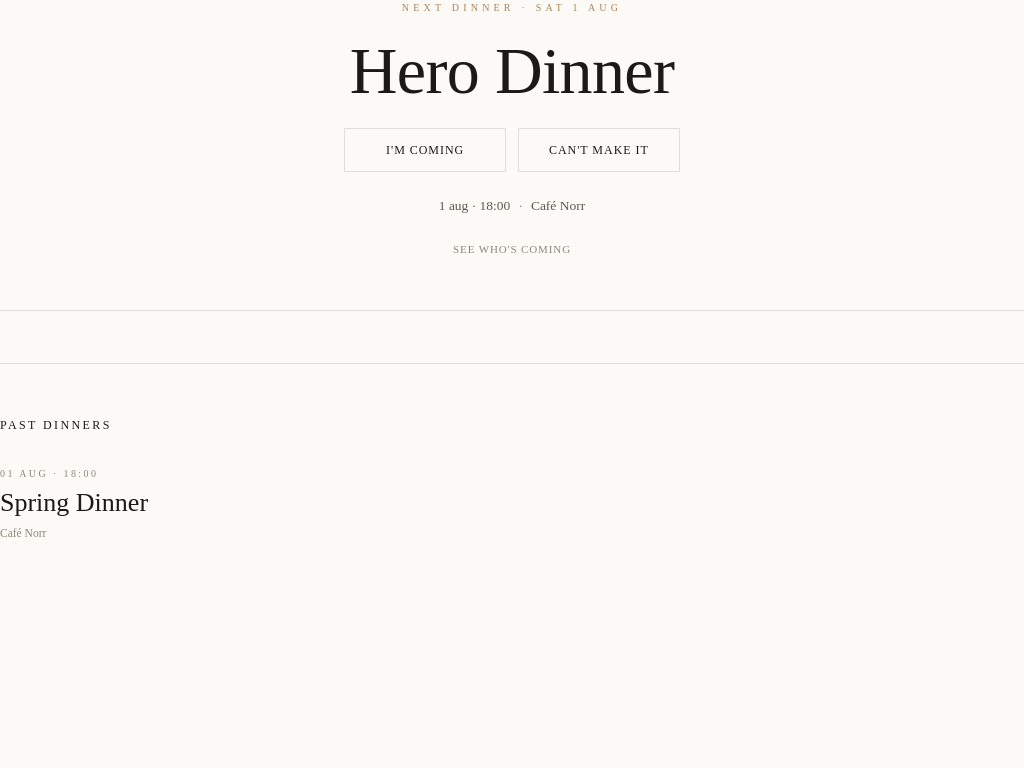
it: DinnersGallery Component › prefills stars and disables the update button until a score actually changes
The width and height of the screenshot is (1024, 768).
Click the button "01 AUG · 18:00 Spring Dinner Café Norr" at (49, 474), box [0,466,317,542]
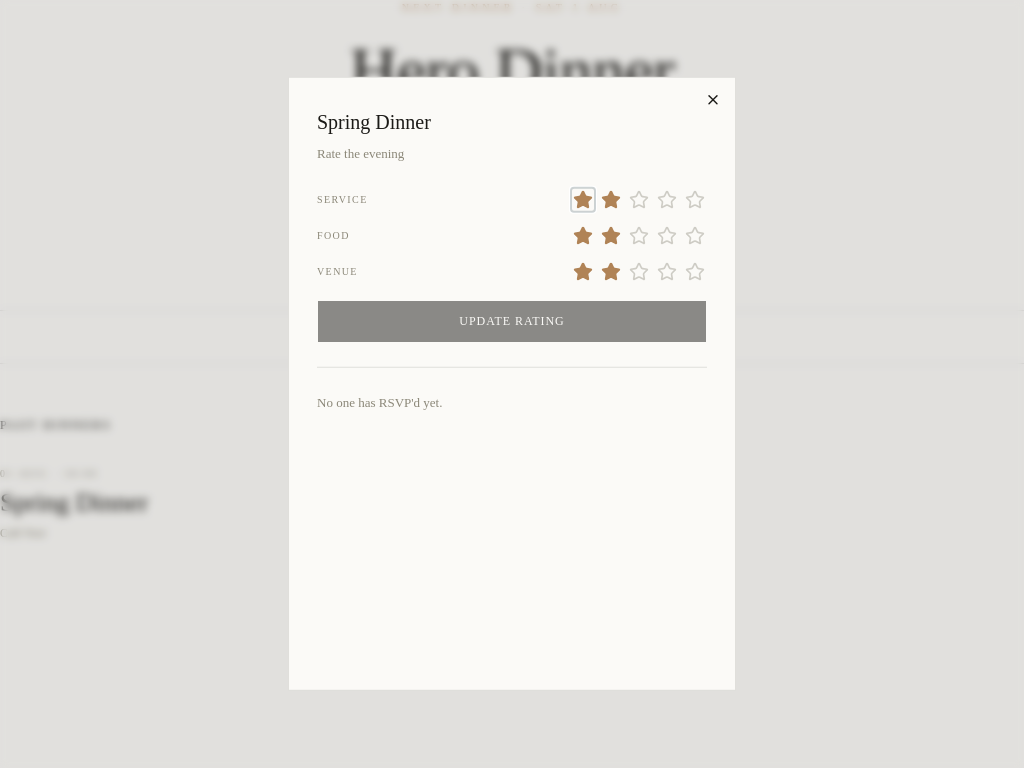
Expected: the button "Update rating" is disabled, [317,299,707,343]
Click the button named "4 of 5" in the row of "Food" at (667, 235), box [655,223,679,247]
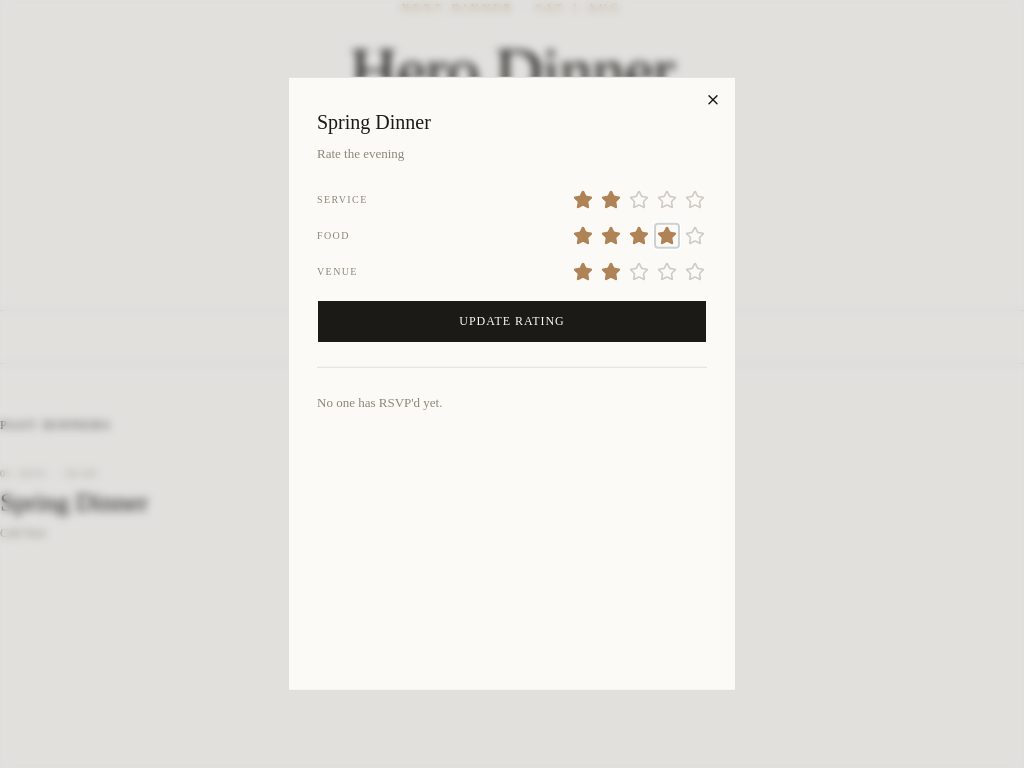
Expected: the button "Update rating" is enabled, [317,299,707,343]
